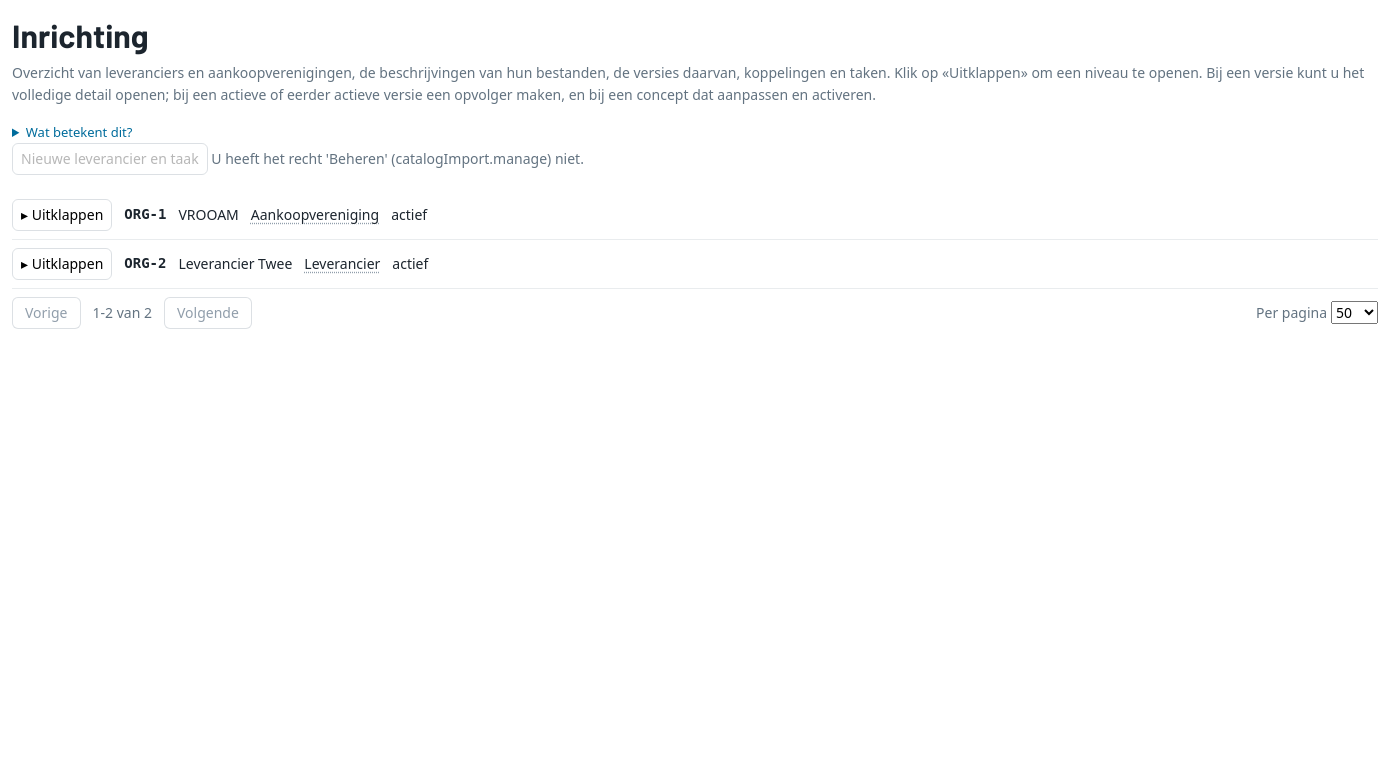
SetupOverviewPage › NT-10: elke koppeling heeft "Controleren" naar het controlescherm, ook met enkel het recht Lezen
What coordinates should you click on to do the following:
click the button "▸ Uitklappen" next to "ORG-1"
I would click on:
 (62, 215)
Its box is x1=12 y1=199 x2=112 y2=231.
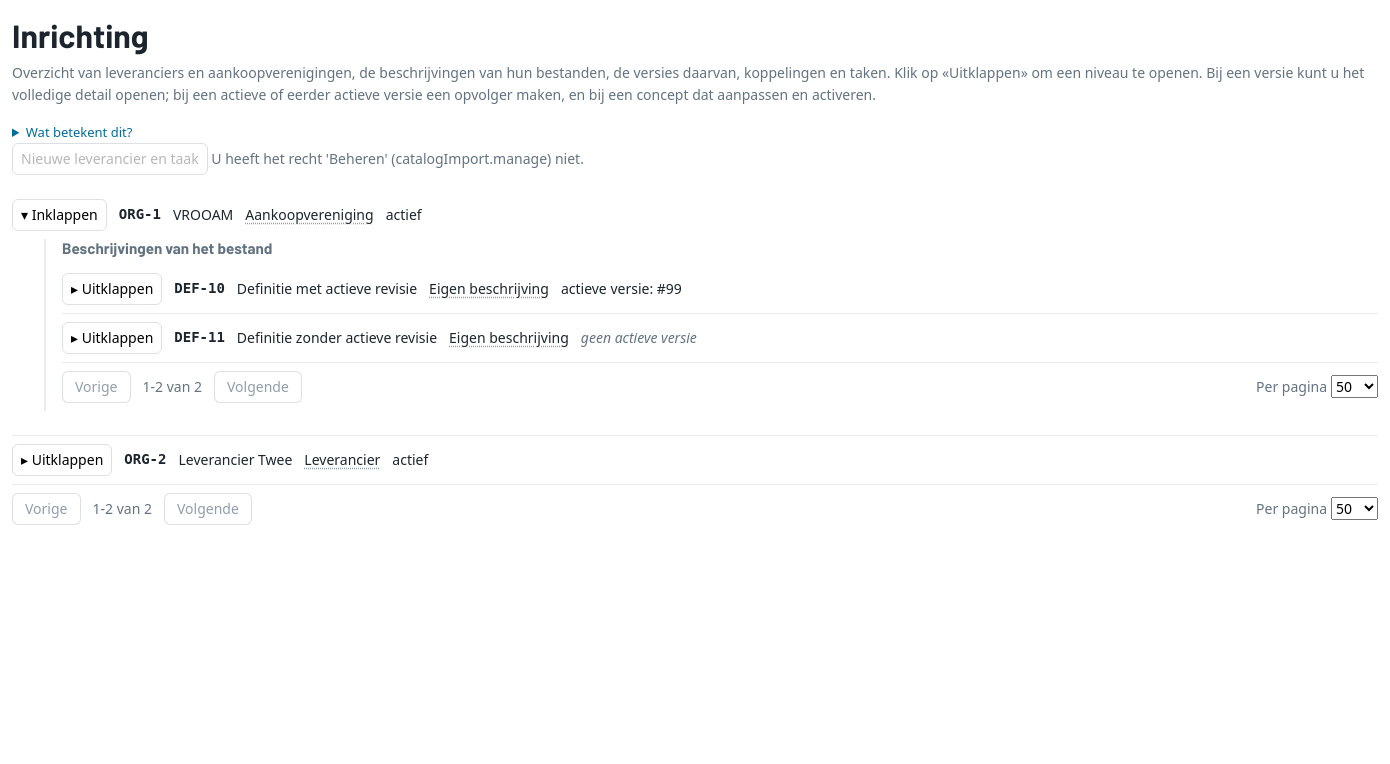
What coordinates should you click on to do the following:
click the button "▸ Uitklappen" next to "DEF-10"
I would click on:
 (112, 289)
Its box is x1=62 y1=273 x2=162 y2=305.
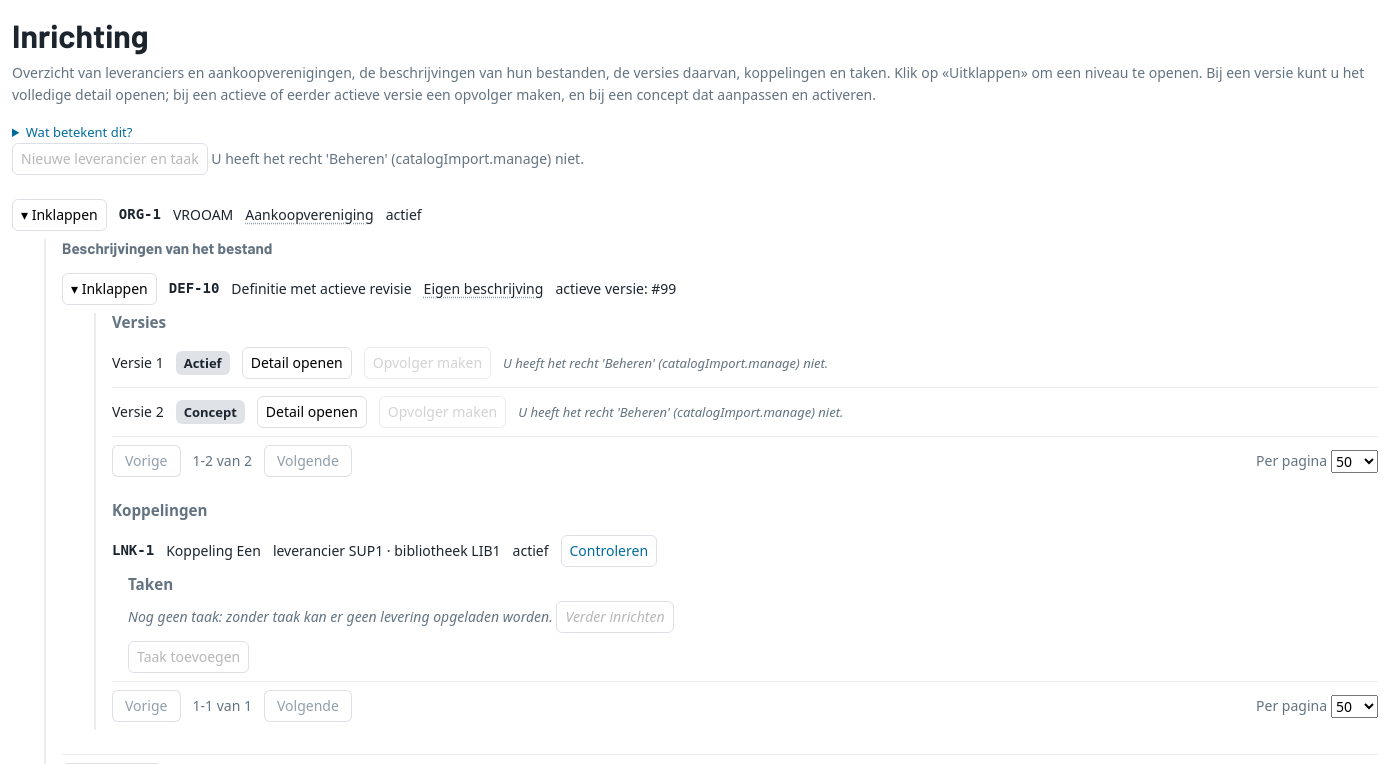
Expected: the link with test id "check-link-501" reads "Controleren", x1=560 y1=535 x2=657 y2=567
